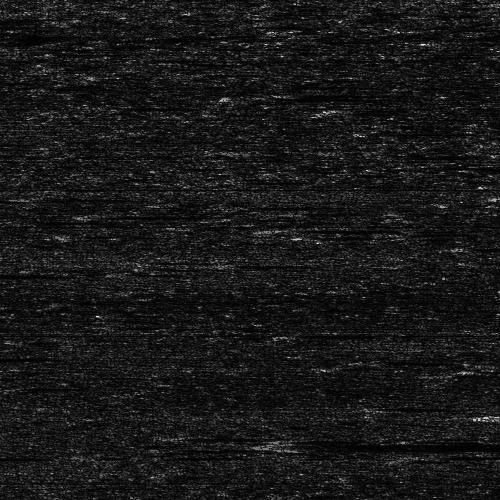object: (233, 439, 316, 452), (200, 93, 283, 100), (195, 260, 268, 267), (346, 151, 419, 158), (53, 210, 116, 217), (472, 406, 500, 421), (244, 225, 327, 230), (400, 452, 453, 457), (0, 194, 40, 197), (356, 130, 387, 133), (0, 453, 8, 458)
shadow: (275, 439, 500, 452), (242, 93, 360, 100), (231, 260, 334, 267), (85, 210, 184, 217), (383, 151, 466, 158), (286, 225, 394, 230), (372, 130, 498, 133), (427, 452, 499, 457), (0, 453, 63, 458), (19, 194, 115, 197), (0, 353, 30, 360), (0, 271, 38, 276), (0, 18, 13, 21)
